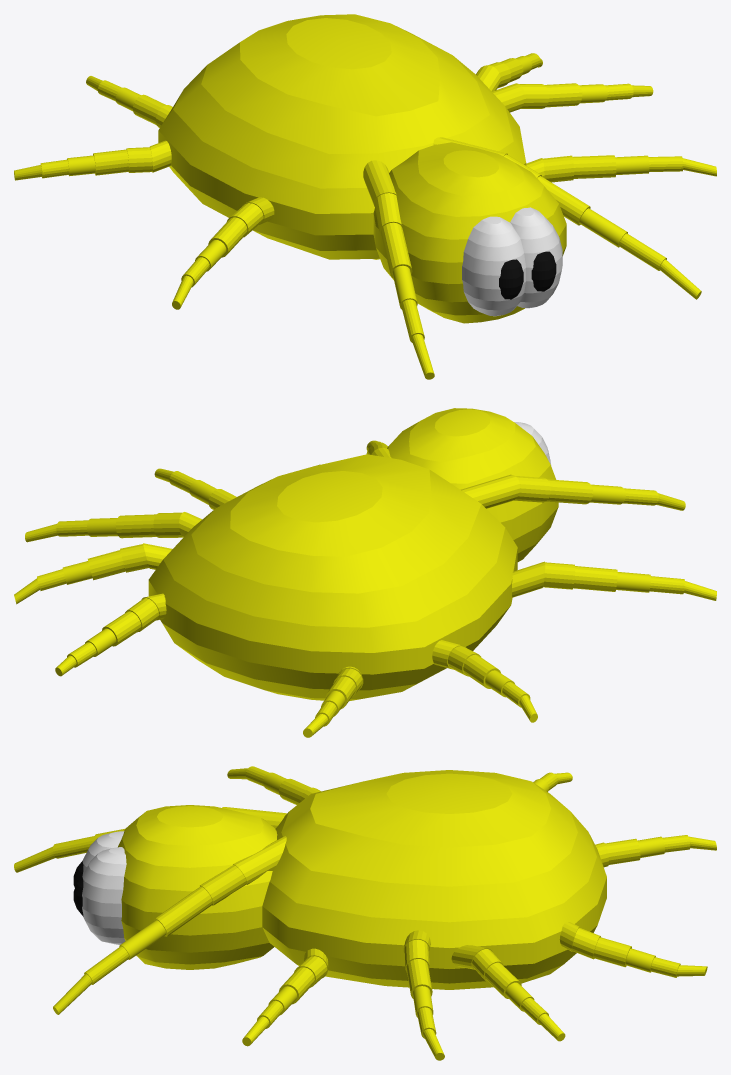
File: sipider.fbx
3 views of the same model, one above another, from view 1: azimuth 30°, elevation 25°; view 2: azimuth 150°, elevation 25°; view 3: azimuth 270°, elevation 25° (orthographic). The views are drawn at different scales.
Parts seen in each view (by area): view 1: pSphere13, pSphere12, pSphere15, pCylinder11, pCylinder12, pCylinder7, pCylinder5, pCylinder8, pCylinder4, pSphere14, pCylinder6, pCylinder9 (+2 smaller); view 2: pSphere13, pSphere12, pCylinder11, pCylinder4, pCylinder8, pCylinder9, pCylinder10, pCylinder5, pCylinder6, pCylinder7; view 3: pSphere13, pSphere12, pCylinder12, pSphere14, pCylinder10, pCylinder9, pCylinder8, pCylinder7, pCylinder6, pCylinder11, pCylinder4, pSphere15.
Boxes of the visible parts, x1=… form: pSphere13: x1=158, y1=14, x2=526, y2=259; pSphere12: x1=373, y1=142, x2=566, y2=323; pSphere15: x1=462, y1=216, x2=525, y2=316; pCylinder11: x1=363, y1=160, x2=434, y2=379; pCylinder12: x1=433, y1=137, x2=701, y2=299; pCylinder7: x1=526, y1=155, x2=716, y2=182; pCylinder5: x1=14, y1=140, x2=171, y2=180; pCylinder8: x1=492, y1=83, x2=653, y2=112; pCylinder4: x1=172, y1=197, x2=274, y2=309; pSphere14: x1=510, y1=207, x2=562, y2=308; pCylinder6: x1=86, y1=76, x2=172, y2=127; pCylinder9: x1=476, y1=53, x2=542, y2=91; pSphere13: x1=148, y1=454, x2=517, y2=701; pSphere12: x1=387, y1=408, x2=558, y2=561; pCylinder11: x1=460, y1=474, x2=685, y2=510; pCylinder4: x1=512, y1=561, x2=716, y2=600; pCylinder8: x1=25, y1=512, x2=201, y2=542; pCylinder9: x1=14, y1=543, x2=172, y2=604; pCylinder10: x1=55, y1=593, x2=166, y2=676; pCylinder5: x1=432, y1=640, x2=537, y2=722; pCylinder6: x1=303, y1=666, x2=363, y2=737; pCylinder7: x1=154, y1=468, x2=236, y2=509; pSphere13: x1=262, y1=770, x2=606, y2=989; pSphere12: x1=118, y1=805, x2=277, y2=969; pCylinder12: x1=53, y1=836, x2=286, y2=1014; pSphere14: x1=82, y1=847, x2=126, y2=944; pCylinder10: x1=559, y1=922, x2=707, y2=977; pCylinder9: x1=451, y1=945, x2=565, y2=1041; pCylinder8: x1=403, y1=930, x2=444, y2=1060; pCylinder7: x1=242, y1=948, x2=328, y2=1046; pCylinder6: x1=595, y1=835, x2=716, y2=867; pCylinder11: x1=14, y1=807, x2=286, y2=872; pCylinder4: x1=227, y1=766, x2=320, y2=804; pSphere15: x1=82, y1=831, x2=124, y2=875.
Bounding box in the file's own units: 5.06 × 1.46 × 5.38.
